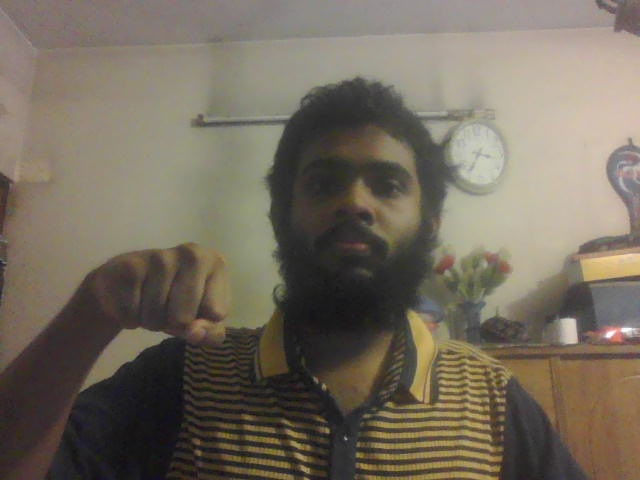Yes: (91, 243, 238, 348)
